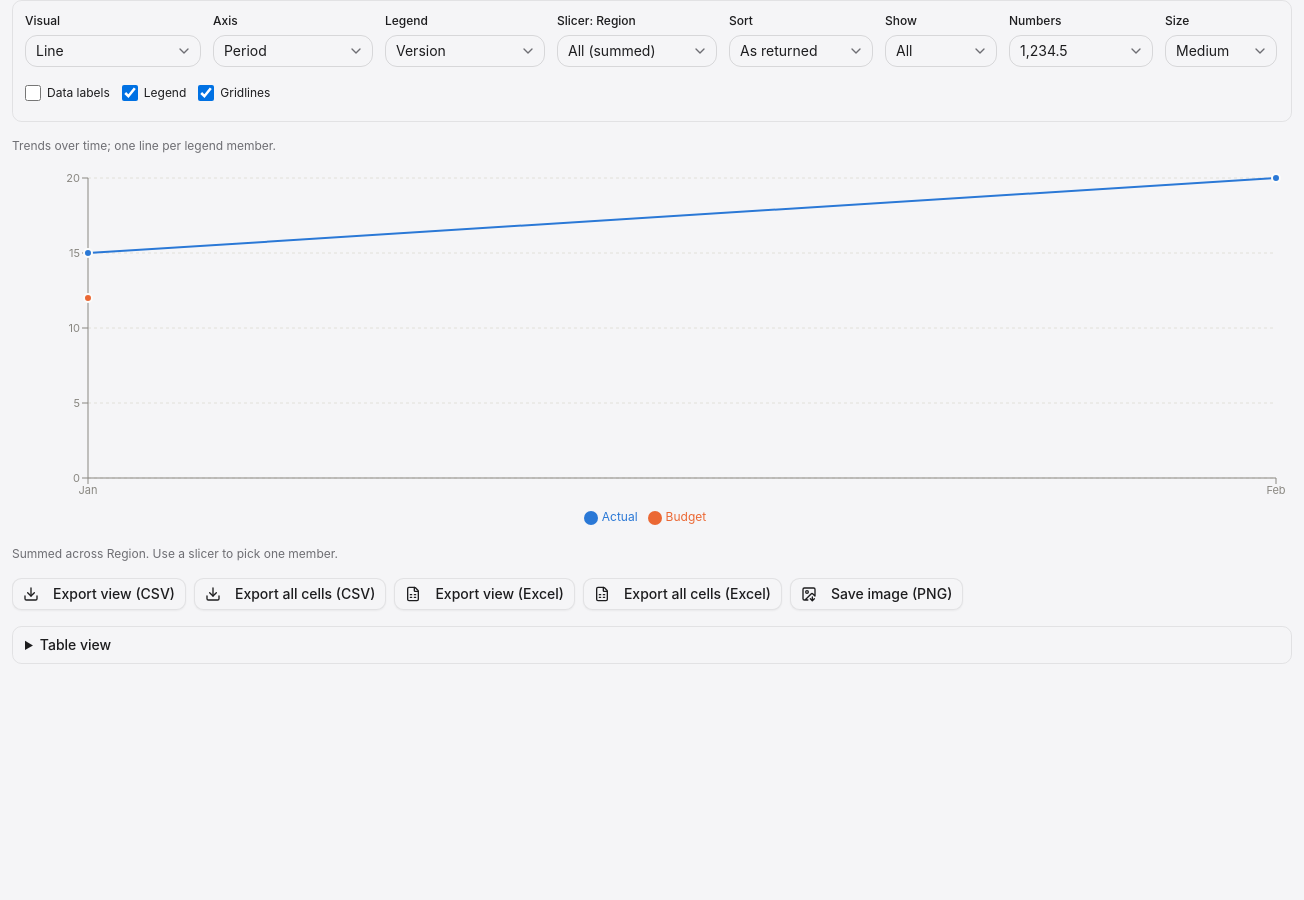
Test case: ChartBuilder › shows a matrix with row and column totals
Click the dropdown named "Visual".
click(113, 51)  # box [25,35,201,67]
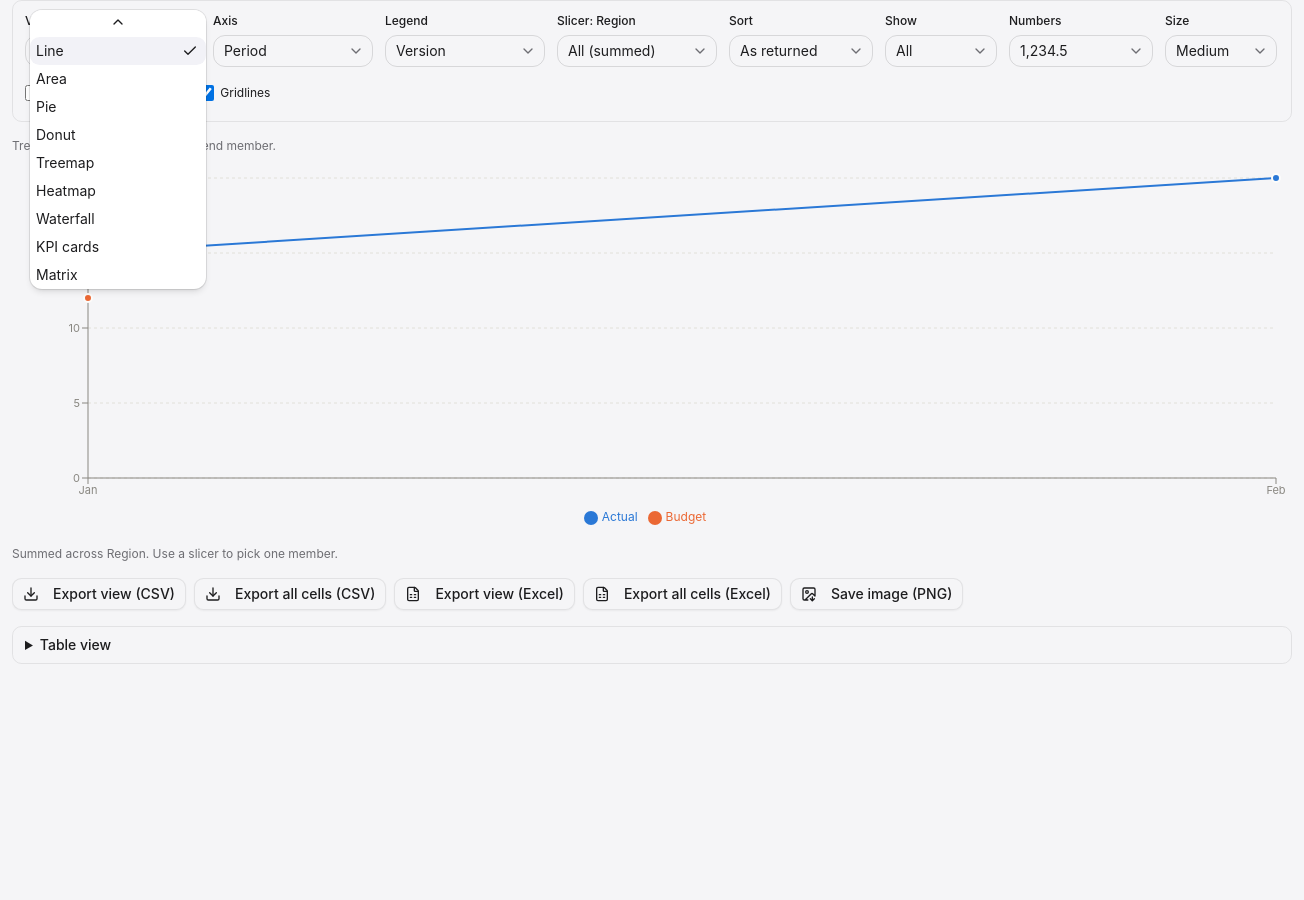
Click the option "Matrix".
click(57, 274)  # box [36,266,78,283]
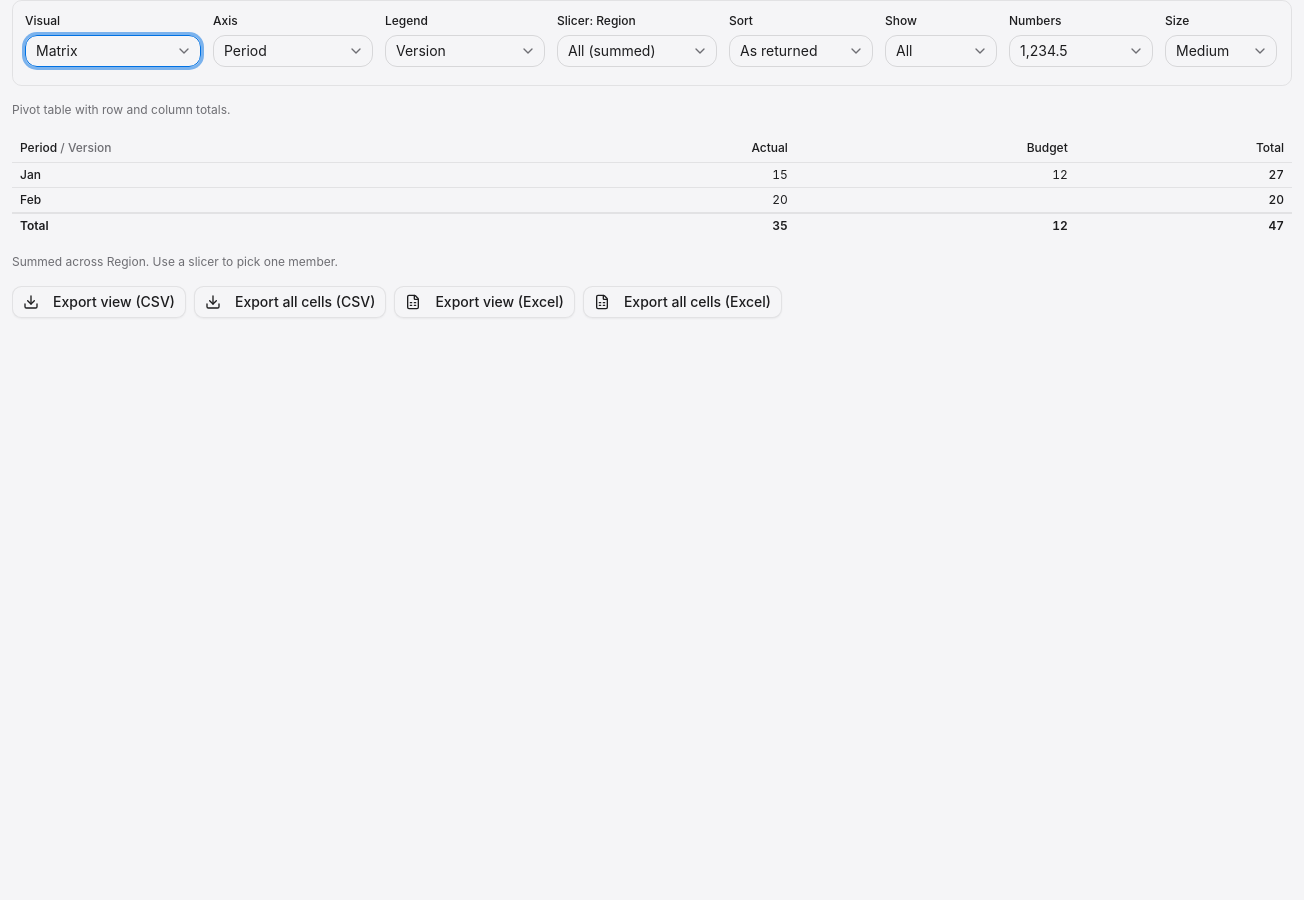
Expected: the text "Jan" shows "15", [772,167,788,182]
Expected: the text "Jan" shows "12", [1052,167,1068,182]
Expected: the text "Jan" shows "27", [1268,167,1284,182]
